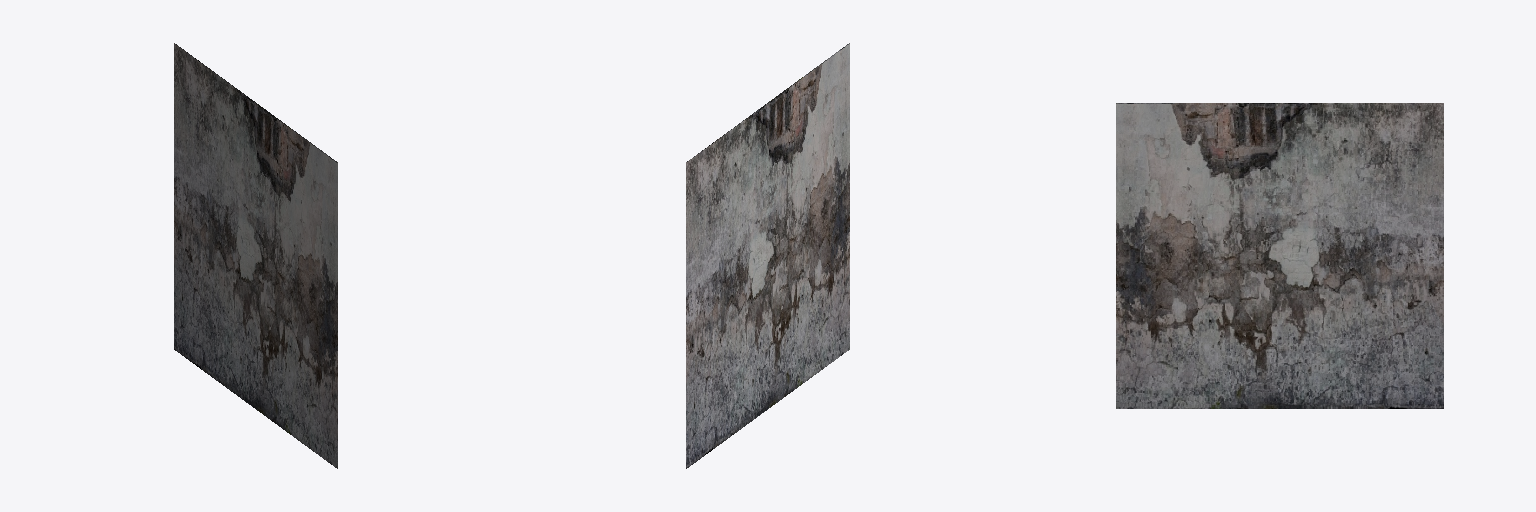
3 views of the same model, side by side, from view 1: azimuth 30°, elevation 25°; view 2: azimuth 150°, elevation 25°; view 3: azimuth 270°, elevation 25° (orthographic).
Parts seen in each view (by area): view 1: Mesh_wall5; view 2: Mesh_wall5; view 3: Mesh_wall5.
Part boxes in pixels (x1,y1,x2,y2): Mesh_wall5: (174,43,337,468); Mesh_wall5: (686,43,849,468); Mesh_wall5: (1116,103,1443,408).
Size of the model in its own units: 0 by 3 by 2.9.
Materials: 1 (1 with a texture image).